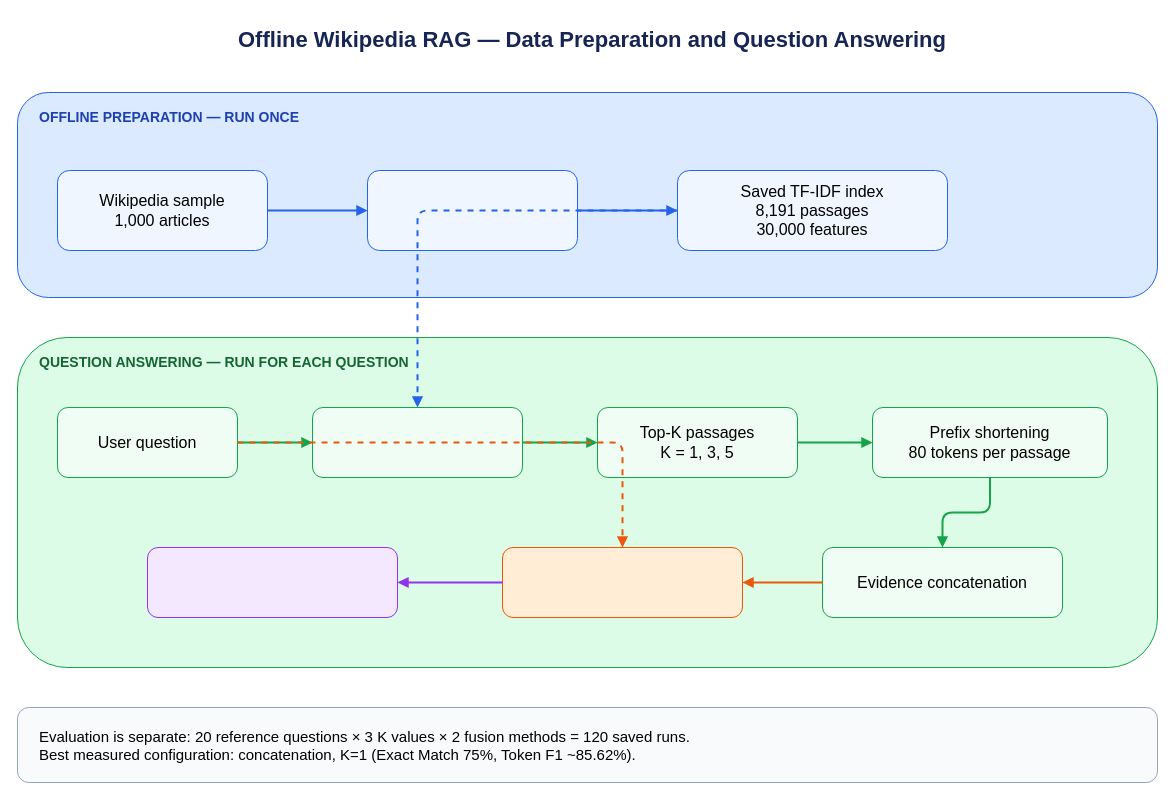
The diagram is 1175 pixels wide and 800 high, and some of its shapes have lost their labels. Each missing label, with the box of its shape:
Chunking 100 words 20-word overlap: (366, 170, 578, 250)
Flan-T5-small Local model / fallback: (502, 546, 742, 618)
Generated answer + sources + timings: (146, 546, 398, 618)
TF-IDF query vector + cosine similarity: (312, 406, 522, 478)
